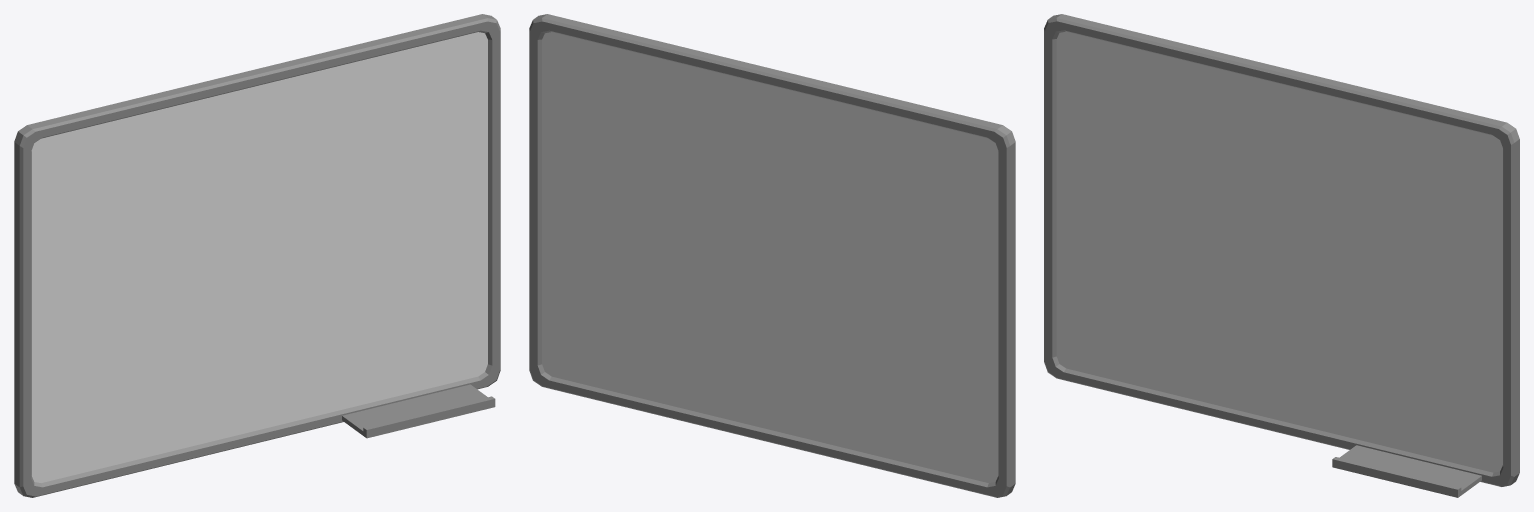
Rendered from Int_Board01_2.fbx.
The picture shows the model from 3 angles, left to right: view 1: azimuth 30°, elevation 25°; view 2: azimuth 150°, elevation 25°; view 3: azimuth 330°, elevation 25°; orthographic projection. The views are drawn at different scales.
Parts seen in each view (by area): view 1: Int_Board01_2; view 2: Int_Board01_2; view 3: Int_Board01_2.
Part boxes in pixels (box(x1,y1,x2,y2)): Int_Board01_2: box(14, 14, 500, 497); Int_Board01_2: box(529, 14, 1015, 497); Int_Board01_2: box(1044, 14, 1519, 497).
Size of what is drawn, in the model's own units: 167 by 19.88 by 122.
